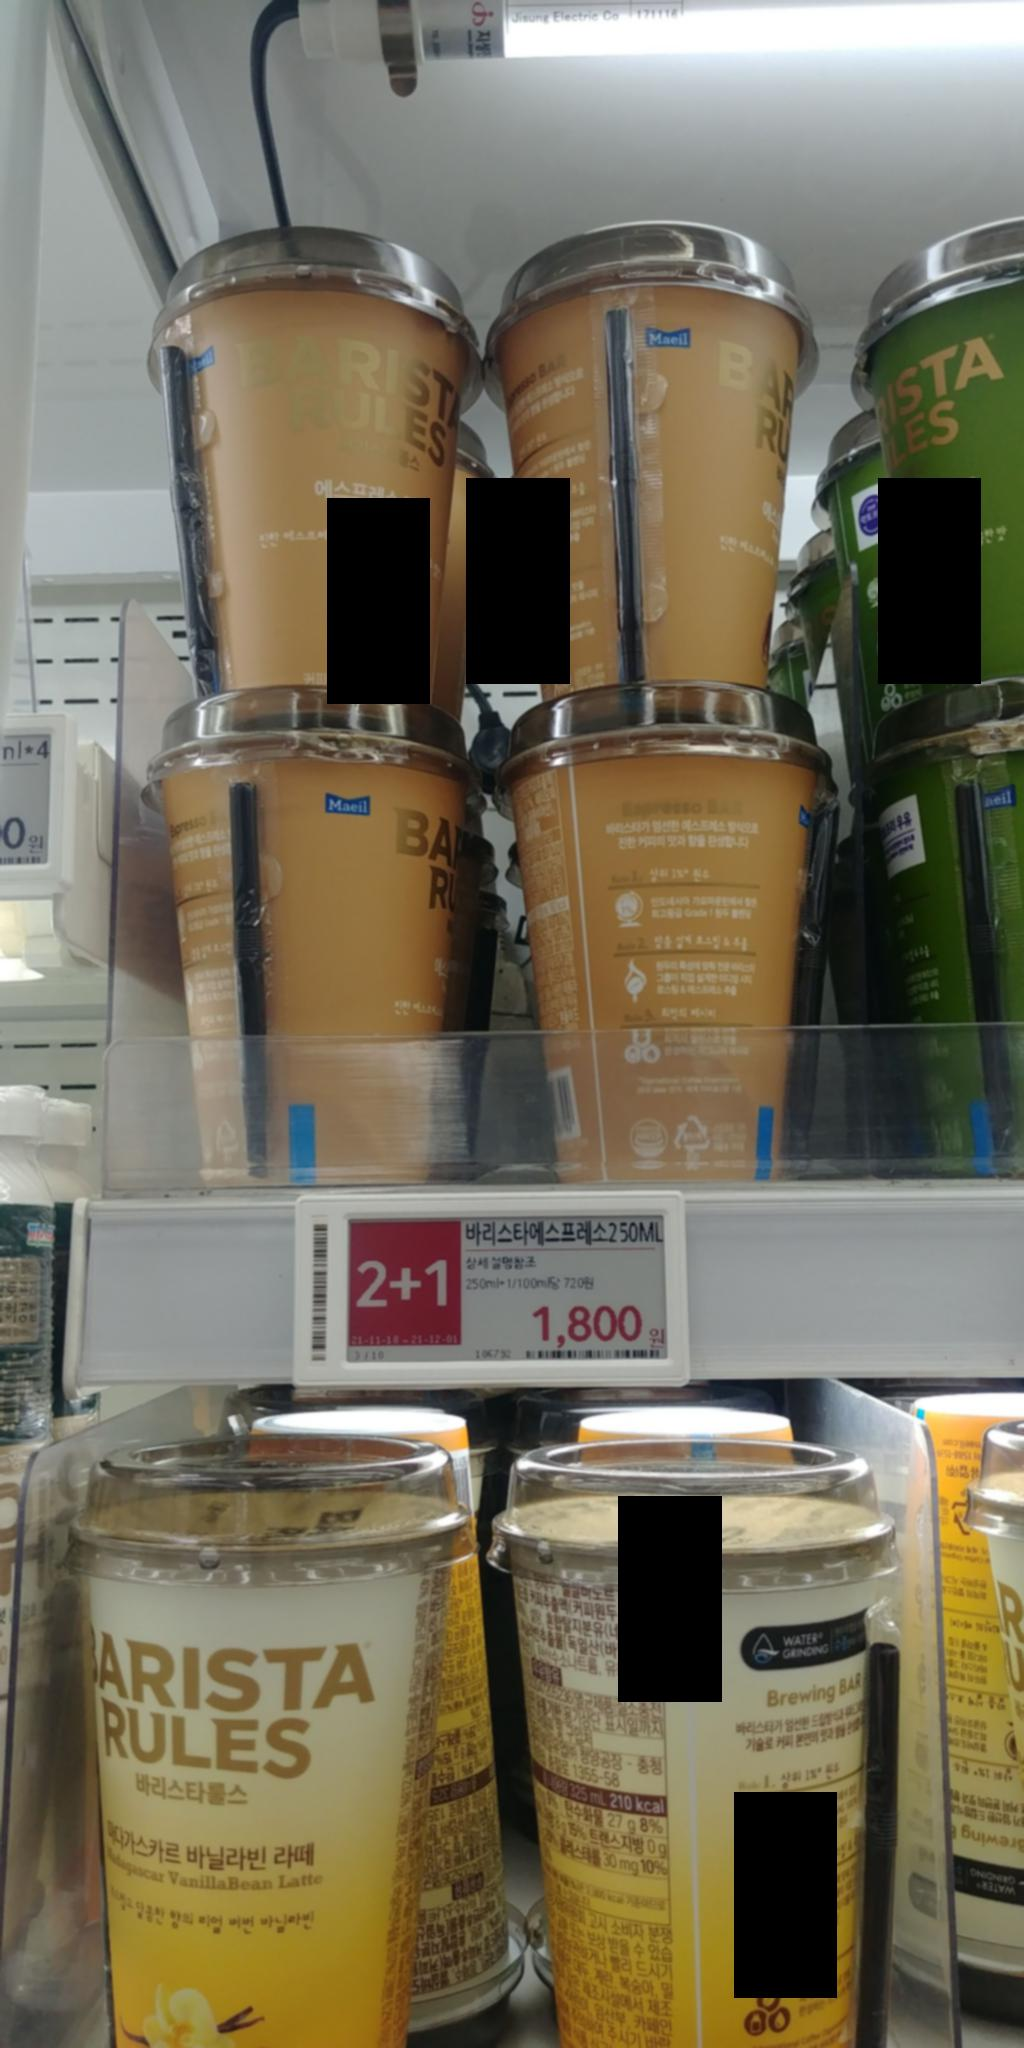baristarules_espressolatte: (133, 677, 474, 1202), (492, 691, 831, 1189), (488, 209, 819, 713), (138, 226, 479, 708)
